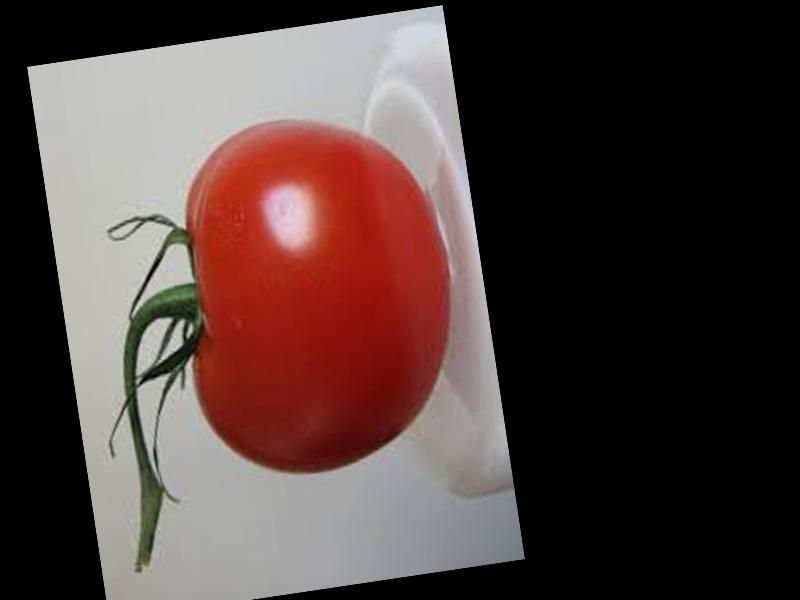Tomato: (158, 99, 474, 489)
